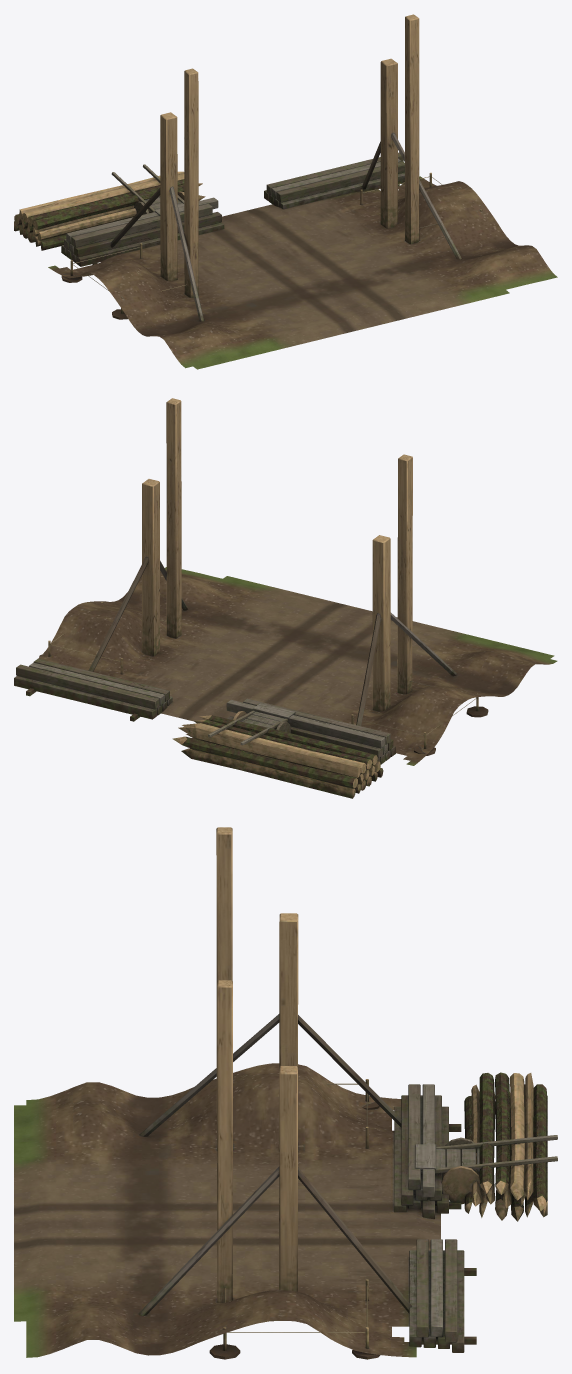
File: gate_build1.glb
3 renders of one model, top to bottom at view 1: azimuth 30°, elevation 25°; view 2: azimuth 150°, elevation 25°; view 3: azimuth 270°, elevation 25°, orthographic. The views are drawn at different scales.
Visible parts, largest first — view 1: gate_build1_LOD0; view 2: gate_build1_LOD0; view 3: gate_build1_LOD0.
Part boxes in pixels (x1,y1,x2,y2): gate_build1_LOD0: (14, 14, 557, 369); gate_build1_LOD0: (14, 398, 557, 798); gate_build1_LOD0: (14, 827, 557, 1359).
Size of what is drawn, in the model's own units: 12.16 by 7.06 by 10.7.
Materials: 1 (1 with a texture image).
